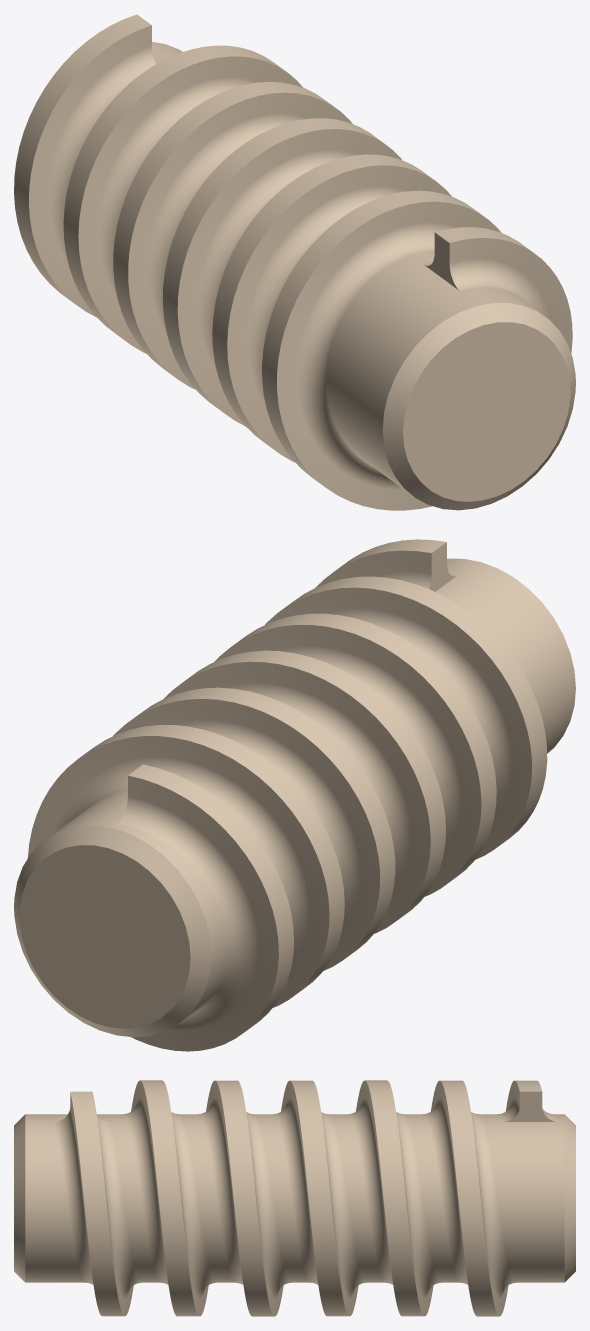
The model's file is CAD-test2.glb.
3 views of the same model, one above another, from view 1: azimuth 30°, elevation 25°; view 2: azimuth 150°, elevation 25°; view 3: azimuth 270°, elevation 25° (orthographic). The views are drawn at different scales.
Parts seen in each view (by area): view 1: Part2; view 2: Part2; view 3: Part2.
Boxes of the visible parts, x1,y1,x2,y2 form: Part2: (14, 14, 575, 510); Part2: (14, 539, 575, 1051); Part2: (14, 1080, 575, 1316).
Size of the model in its own units: 0.042 by 0.042 by 0.1.
